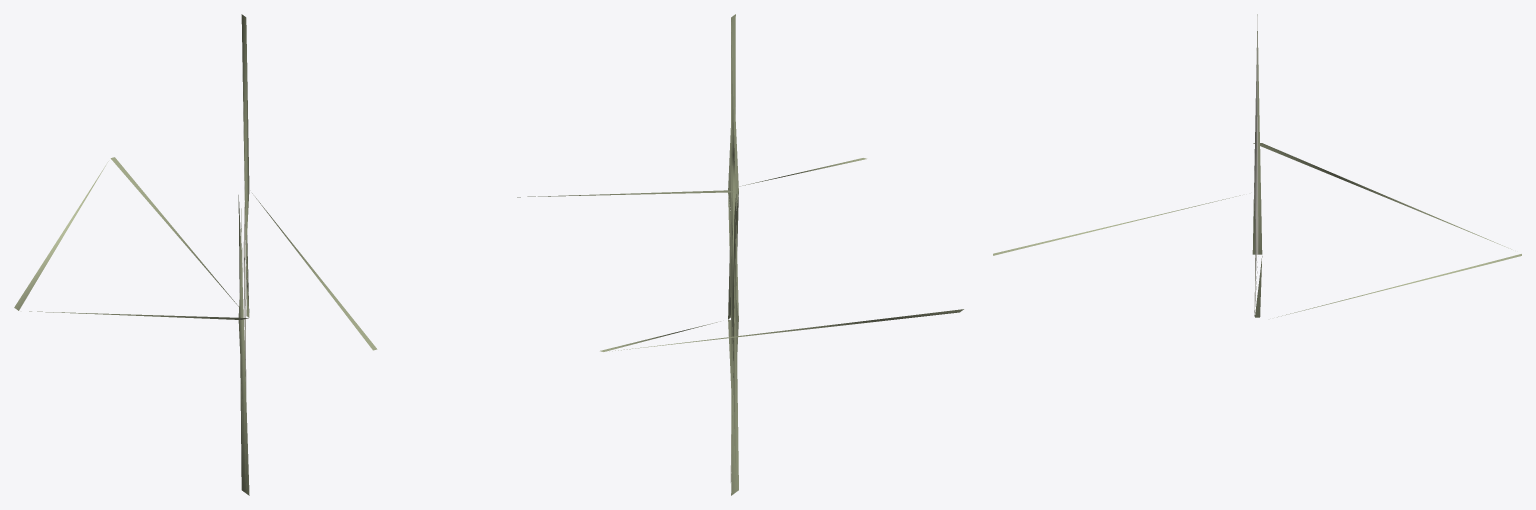
Rendered from equip_weapon_willow_shortbow.glb.
The picture shows the model from 3 angles, left to right: view 1: azimuth 30°, elevation 25°; view 2: azimuth 150°, elevation 25°; view 3: azimuth 270°, elevation 25°; orthographic projection.
Parts seen in each view (by area): view 1: equip_weapon_willow_shortbow; view 2: equip_weapon_willow_shortbow; view 3: equip_weapon_willow_shortbow.
Boxes of the visible parts, x1=… form: equip_weapon_willow_shortbow: x1=14, y1=14, x2=377, y2=495; equip_weapon_willow_shortbow: x1=517, y1=14, x2=963, y2=495; equip_weapon_willow_shortbow: x1=993, y1=14, x2=1521, y2=317.
Size of the model in its own units: 2 by 2 by 2.
